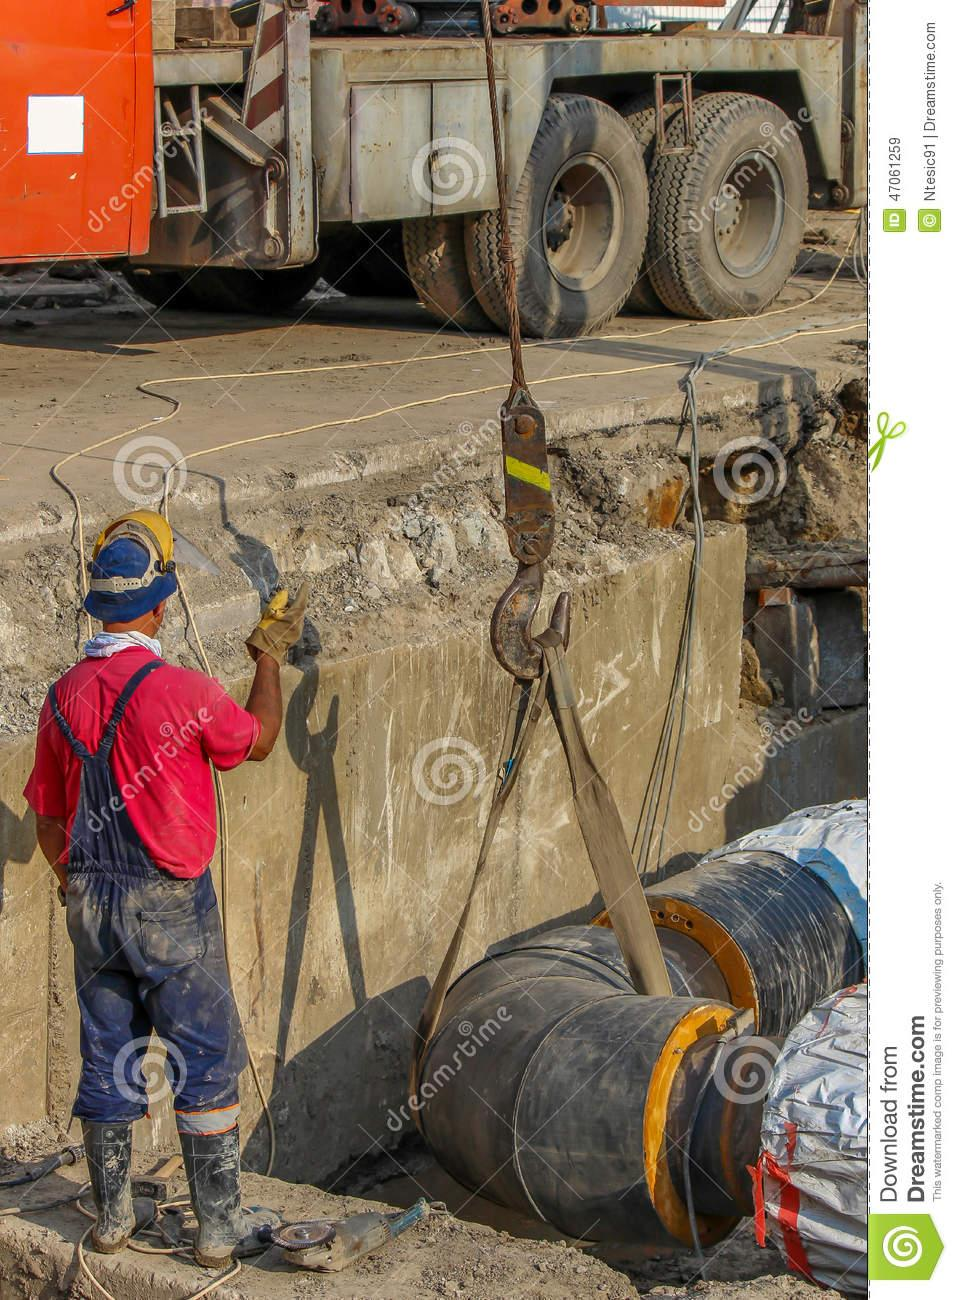helmet: (85, 519, 179, 625)
